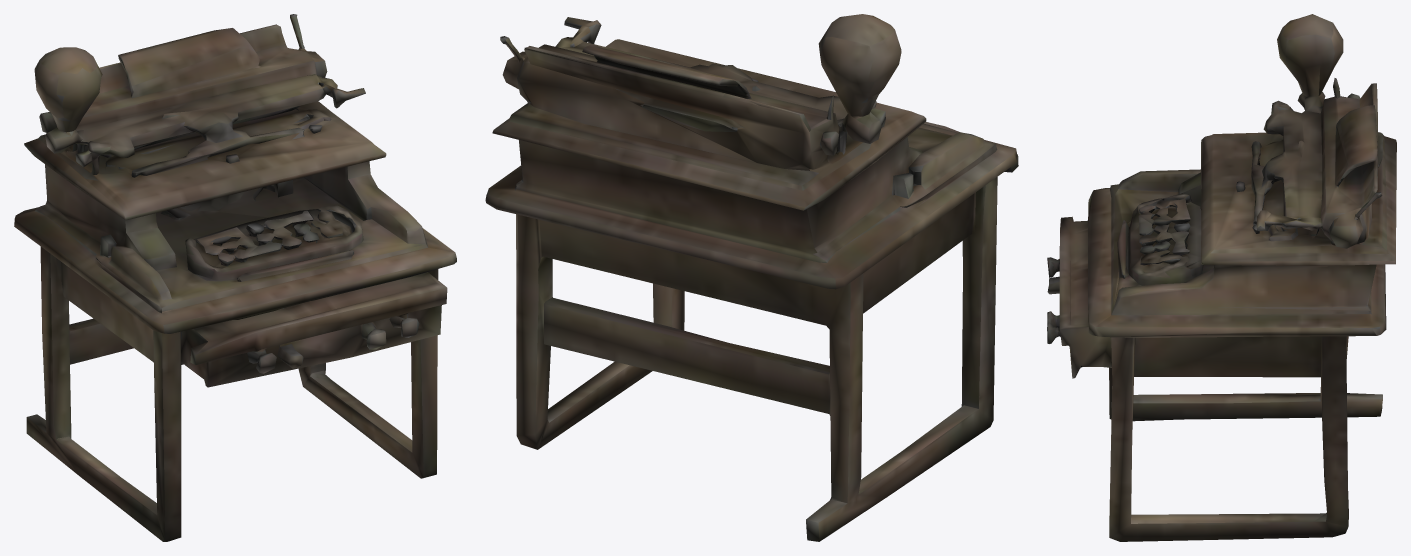
Rendered from chipped-wood-desk-v001.glb.
3 views of the same model, side by side, from view 1: azimuth 30°, elevation 25°; view 2: azimuth 150°, elevation 25°; view 3: azimuth 270°, elevation 25° (orthographic). The views are drawn at different scales.
Parts seen in each view (by area): view 1: chipped-wood-desk; view 2: chipped-wood-desk; view 3: chipped-wood-desk.
Part boxes in pixels (x1,y1,x2,y2): chipped-wood-desk: (14, 14, 456, 541); chipped-wood-desk: (485, 14, 1018, 541); chipped-wood-desk: (1047, 14, 1396, 541).
Size of the model in its own units: 0.5864 by 0.7573 by 0.5999.
Materials: 1 (1 with a texture image).
